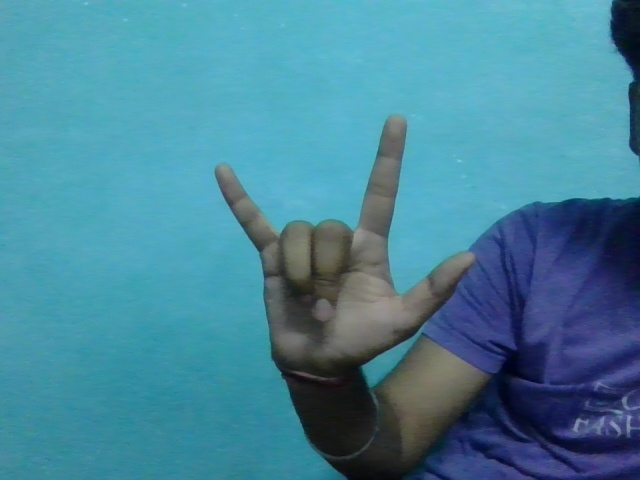iloveyou: (186, 106, 488, 373)
